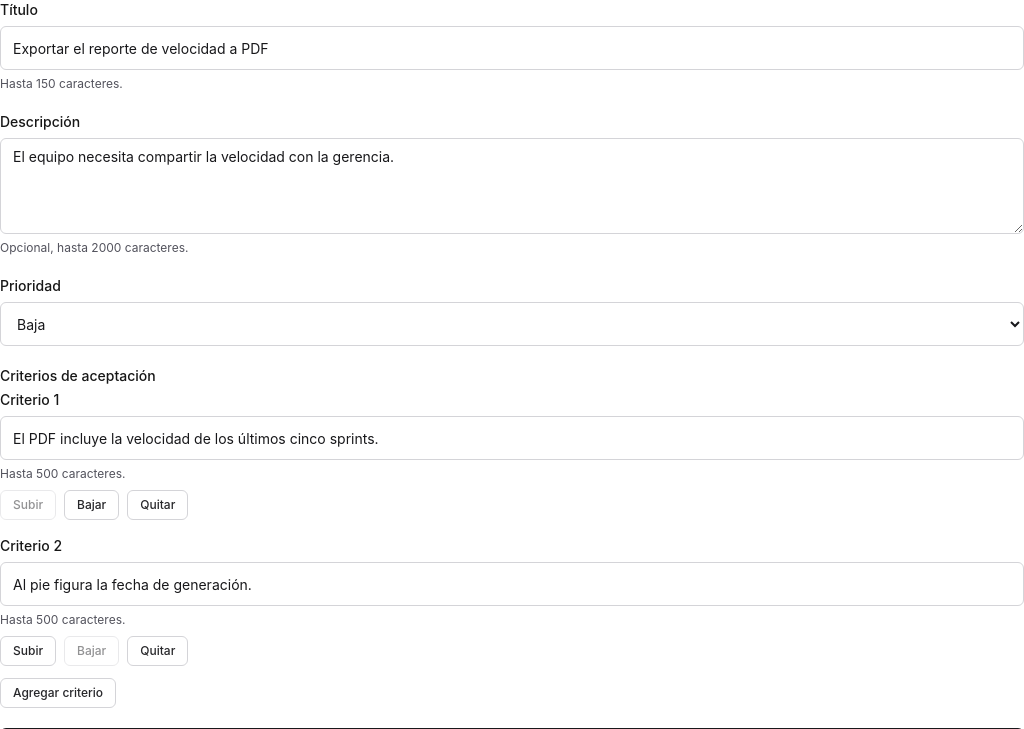
003/US5 - Refinar una historia › Vaciar criterios
Expected: the field labelled "Título" is shown, [0,26,1023,70]
Click the button with aria-label "Quitar criterio 1": (158, 505) [127,490,188,520]
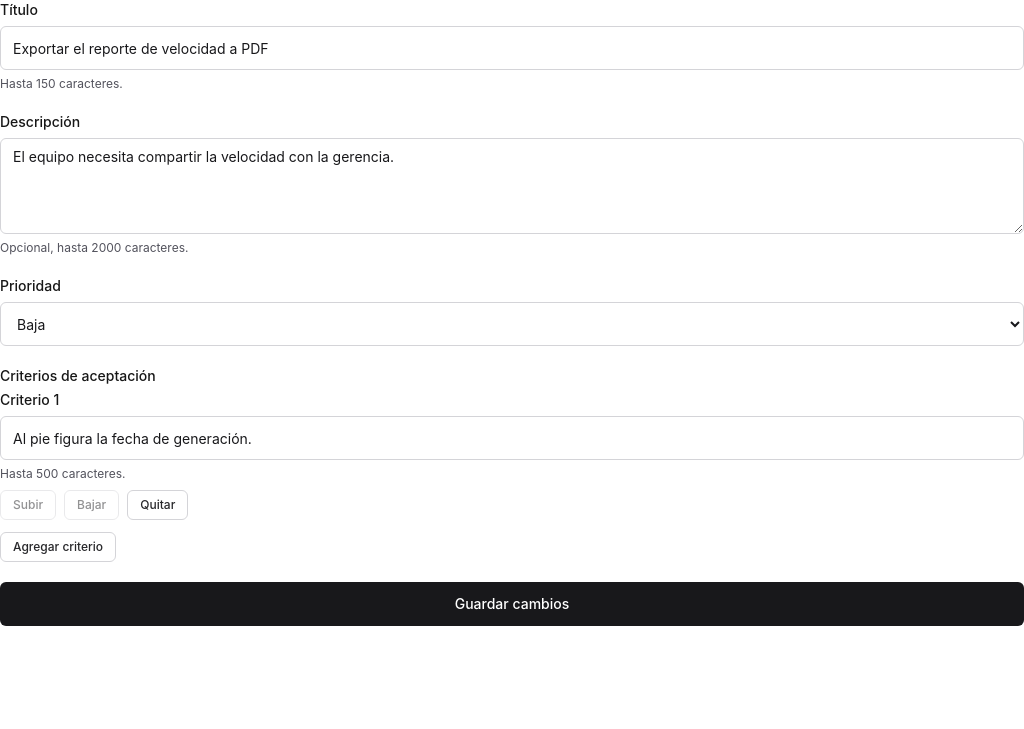
Click the button with aria-label "Quitar criterio 1": (158, 505) [127,490,188,520]
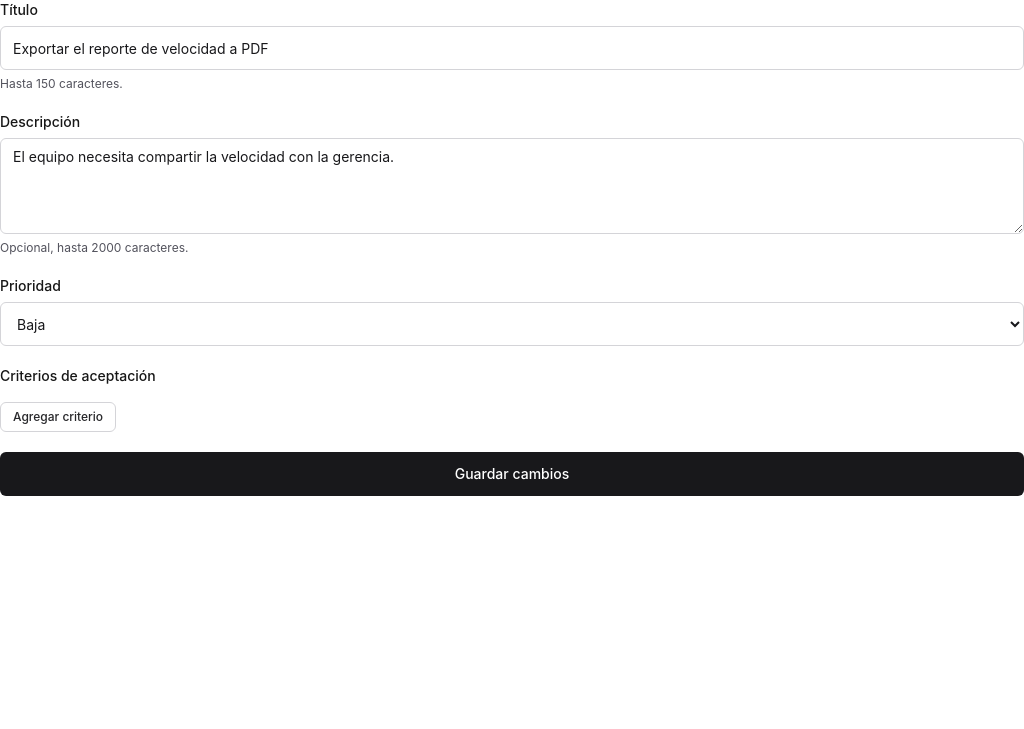
Click the button "Guardar cambios": (512, 474) [0,452,1023,496]
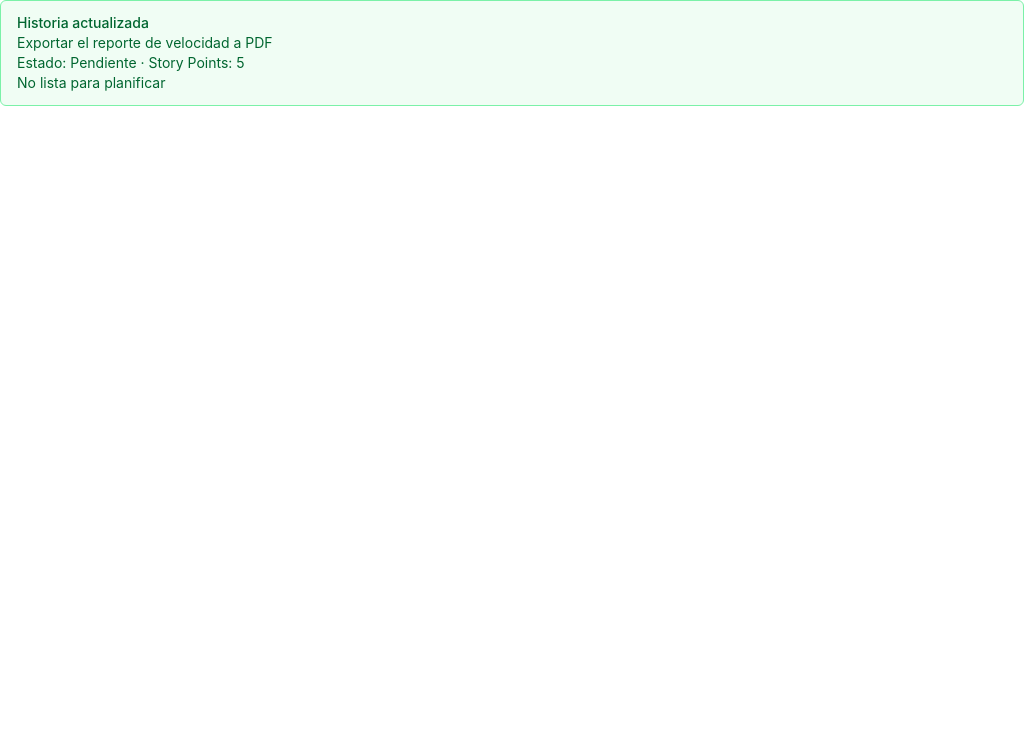
Now the text "Historia actualizada" is shown, box [17,14,149,31]
Now the text "Historia actualizada" shows "No lista para planificar", box [17,74,166,91]
